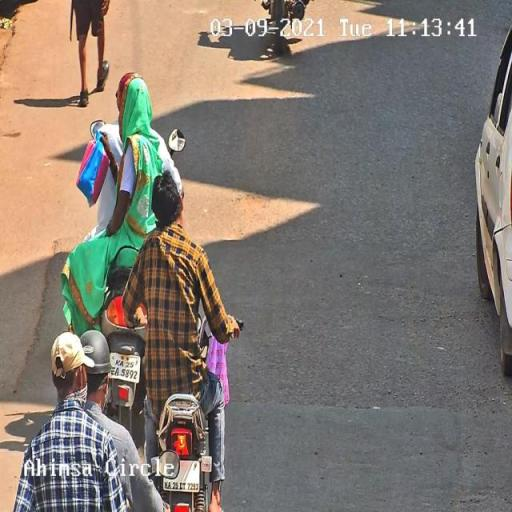using mobile: (152, 214, 168, 232)
